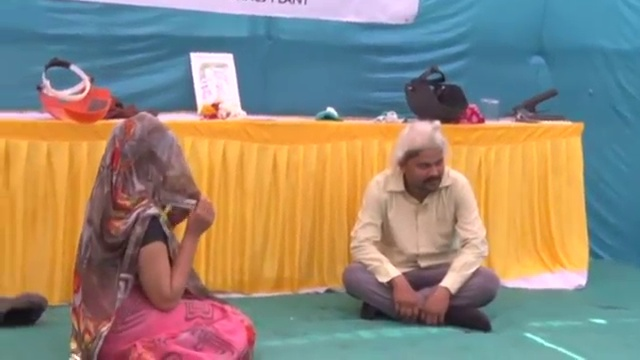helmet_off: (100, 117, 191, 209), (395, 123, 448, 193)
person: (63, 110, 259, 360), (337, 118, 504, 334)
